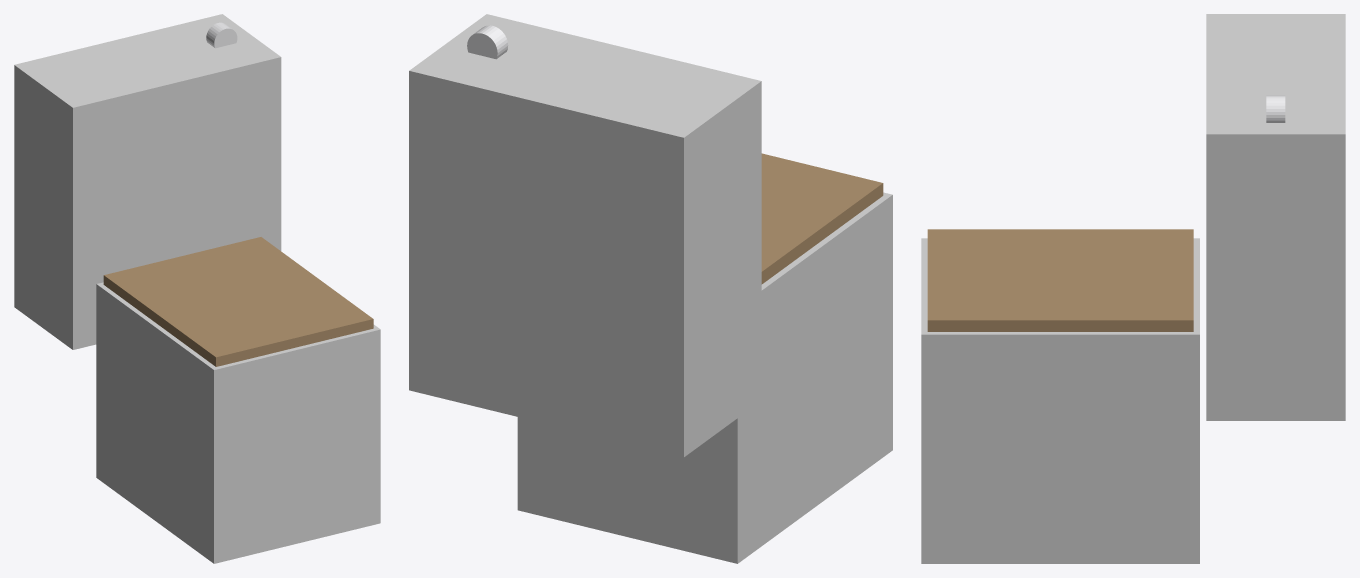
The model's file is toilet.glb.
The picture shows the model from 3 angles, left to right: view 1: azimuth 30°, elevation 25°; view 2: azimuth 150°, elevation 25°; view 3: azimuth 270°, elevation 25°; orthographic projection. The views are drawn at different scales.
Parts seen in each view (by area): view 1: WaterTank, ToiletBowl, SeatLid, FlushBtn; view 2: WaterTank, ToiletBowl, SeatLid, FlushBtn; view 3: ToiletBowl, WaterTank, SeatLid, FlushBtn.
Part boxes in pixels (box(x1,y1,x2,y2)): WaterTank: box(14, 14, 281, 349); ToiletBowl: box(96, 282, 380, 563); SeatLid: box(103, 237, 373, 366); FlushBtn: box(206, 22, 237, 48); WaterTank: box(409, 14, 761, 457); ToiletBowl: box(517, 192, 892, 563); SeatLid: box(761, 153, 883, 284); FlushBtn: box(467, 25, 508, 59); ToiletBowl: box(921, 238, 1199, 563); WaterTank: box(1206, 14, 1345, 420); SeatLid: box(927, 229, 1193, 331); FlushBtn: box(1266, 95, 1285, 122).
Bounding box in the file's own units: 0.45 × 0.805 × 0.67.
